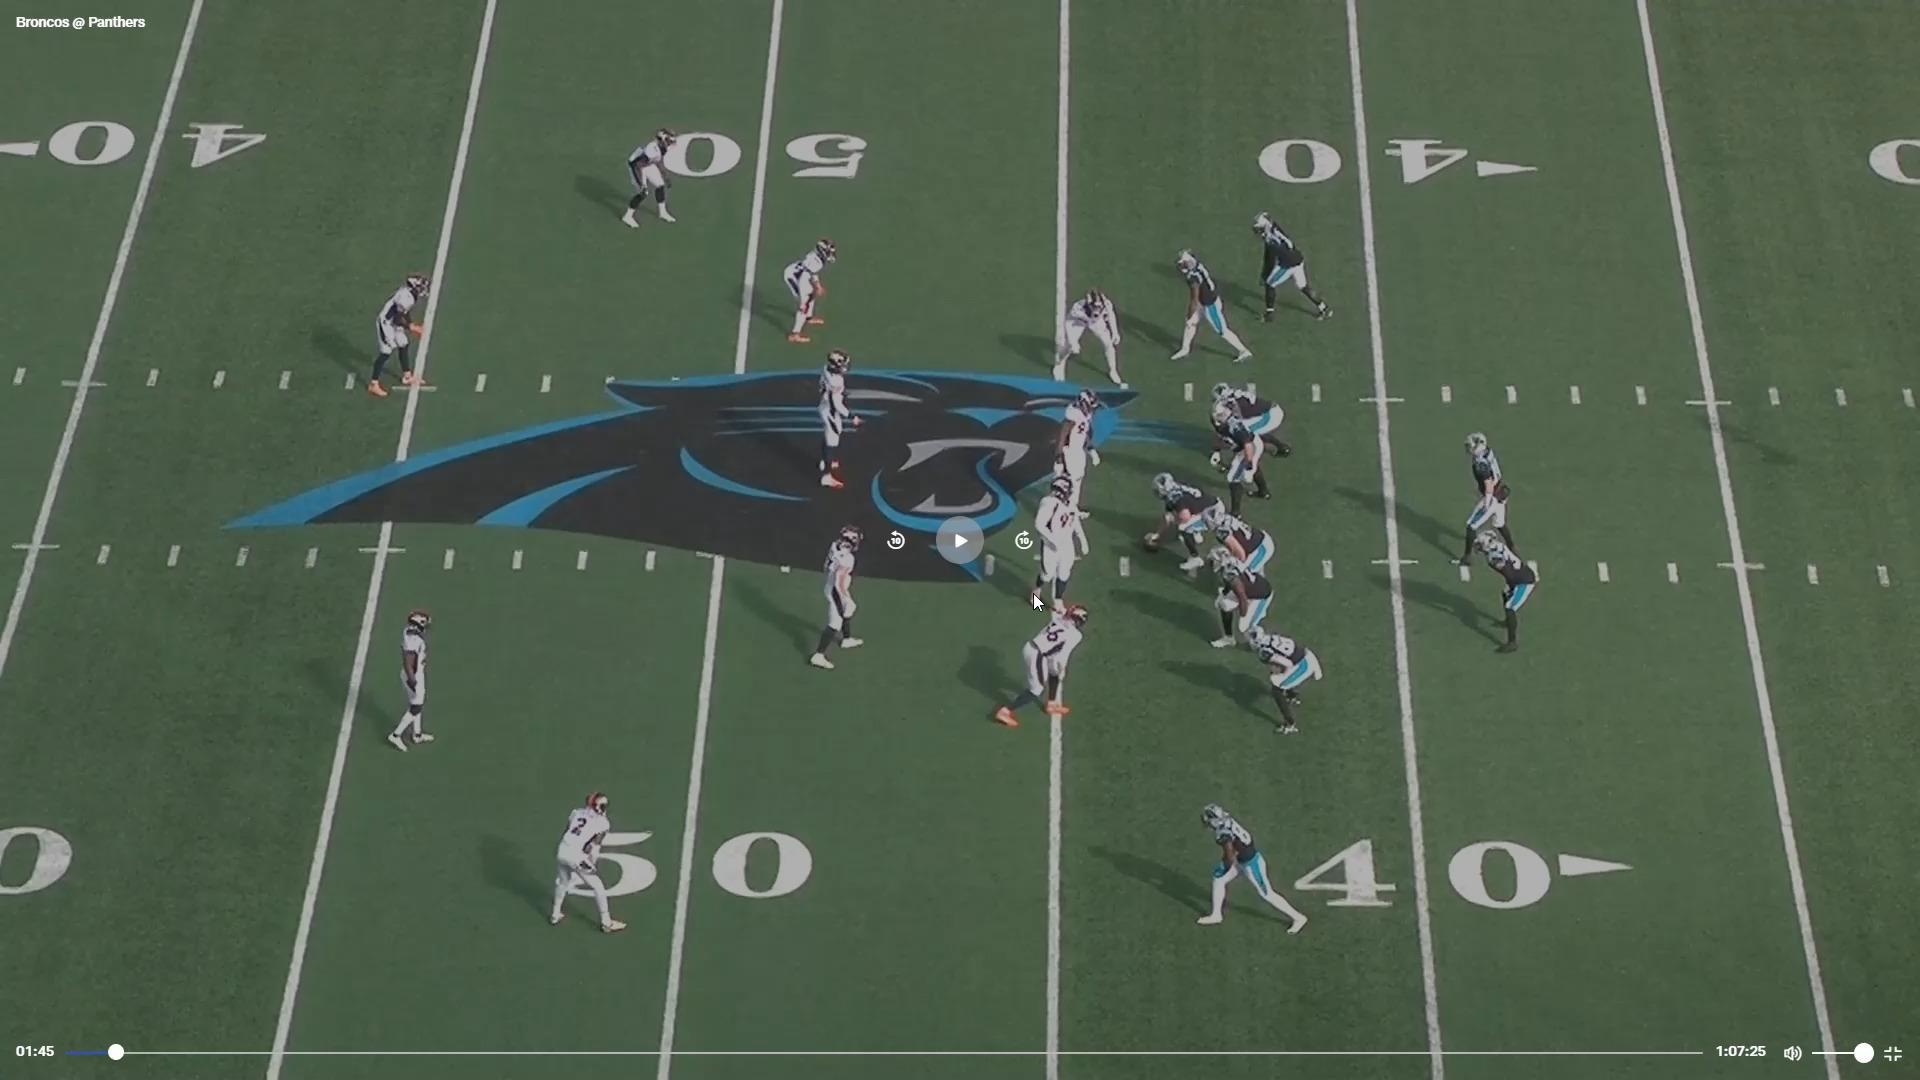40L: (0, 120, 268, 169)
40R: (1292, 836, 1634, 911), (1259, 136, 1540, 186)
50: (566, 828, 814, 901), (659, 129, 866, 178)
